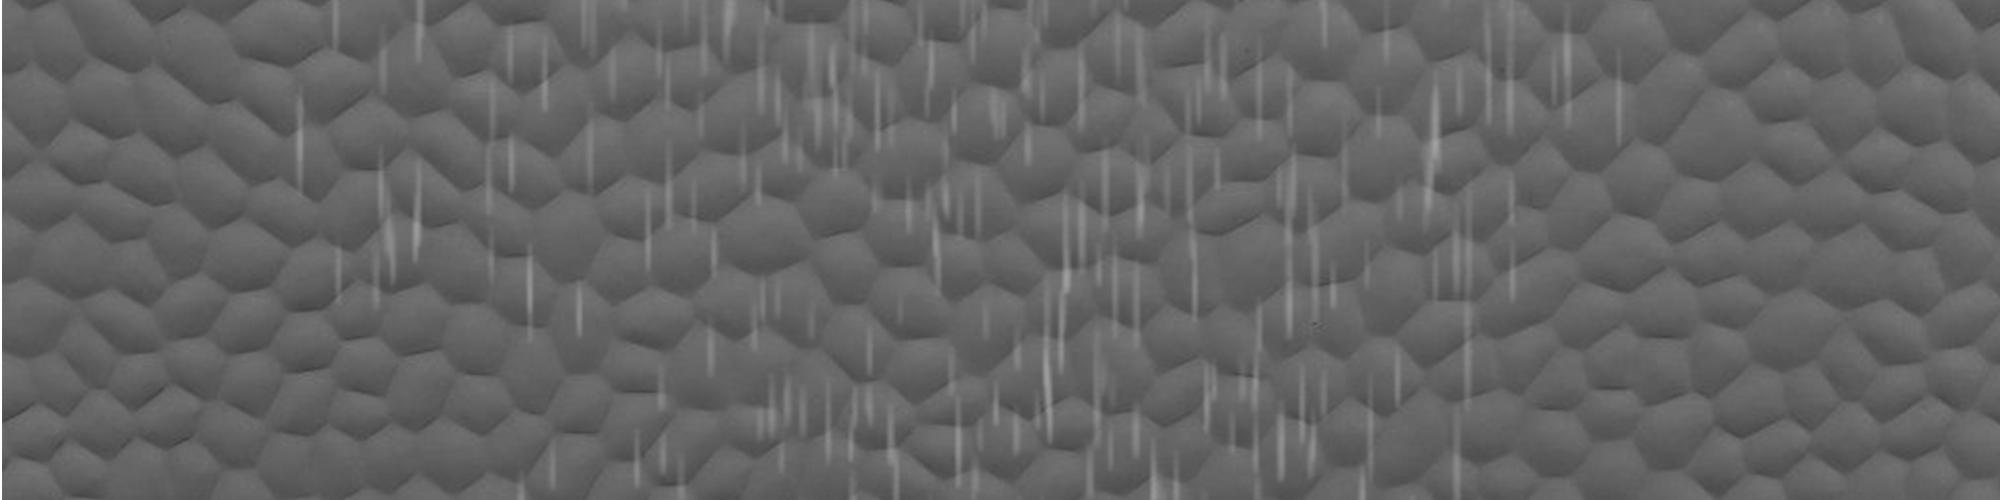Streaks: (1196, 302, 1273, 495), (1449, 194, 1489, 500), (1031, 179, 1070, 448), (737, 33, 788, 219), (1276, 349, 1337, 497), (937, 342, 992, 495), (749, 358, 810, 483), (1267, 152, 1305, 342), (1409, 64, 1452, 235), (369, 143, 408, 312), (1082, 337, 1122, 496), (477, 65, 504, 298), (1105, 6, 1162, 115), (1124, 399, 1186, 497), (1071, 135, 1108, 297), (496, 15, 526, 202), (1306, 189, 1344, 330), (1180, 92, 1202, 341), (923, 124, 953, 305), (793, 14, 828, 152), (629, 173, 665, 305), (736, 261, 787, 353), (1348, 360, 1381, 500), (1497, 165, 1529, 306), (1128, 128, 1167, 239), (645, 10, 679, 142), (908, 0, 941, 130), (282, 83, 316, 207), (510, 429, 565, 500), (1547, 3, 1577, 131), (986, 374, 1028, 463), (823, 43, 846, 203), (869, 55, 901, 168), (1474, 6, 1503, 130), (645, 343, 668, 486), (1325, 108, 1355, 219), (693, 6, 716, 145), (952, 159, 987, 249), (1202, 14, 1231, 110), (1102, 239, 1128, 348), (404, 131, 423, 276), (880, 390, 906, 497), (844, 6, 864, 147), (982, 77, 1017, 154), (517, 244, 540, 358), (1501, 6, 1520, 142), (365, 19, 393, 111), (950, 1, 991, 64), (841, 392, 864, 500), (325, 241, 357, 319), (1608, 43, 1631, 151), (602, 43, 631, 122), (1070, 41, 1094, 133), (568, 267, 593, 353), (408, 3, 441, 69), (583, 103, 605, 203), (812, 379, 837, 467), (1381, 167, 1409, 242), (1360, 227, 1388, 302), (702, 307, 723, 399), (1256, 32, 1273, 149), (864, 334, 881, 439), (573, 6, 599, 70), (1389, 332, 1411, 407), (800, 293, 825, 356), (684, 171, 705, 244), (1125, 255, 1142, 348), (1279, 61, 1297, 144), (1443, 64, 1469, 119), (1032, 71, 1057, 129), (945, 79, 966, 151), (1362, 83, 1388, 139), (1425, 247, 1445, 318), (321, 0, 344, 61), (622, 427, 645, 489), (540, 29, 554, 128), (899, 172, 920, 239), (974, 295, 997, 353), (719, 3, 740, 68), (996, 321, 1027, 364), (1020, 3, 1051, 43), (1378, 3, 1397, 66), (673, 444, 694, 500), (1210, 151, 1231, 205), (795, 115, 809, 187), (665, 142, 676, 227), (889, 286, 911, 330), (763, 5, 791, 40), (1316, 11, 1332, 62), (1020, 115, 1034, 162), (1017, 51, 1031, 98), (869, 171, 881, 216), (679, 5, 694, 38), (708, 221, 714, 284)
